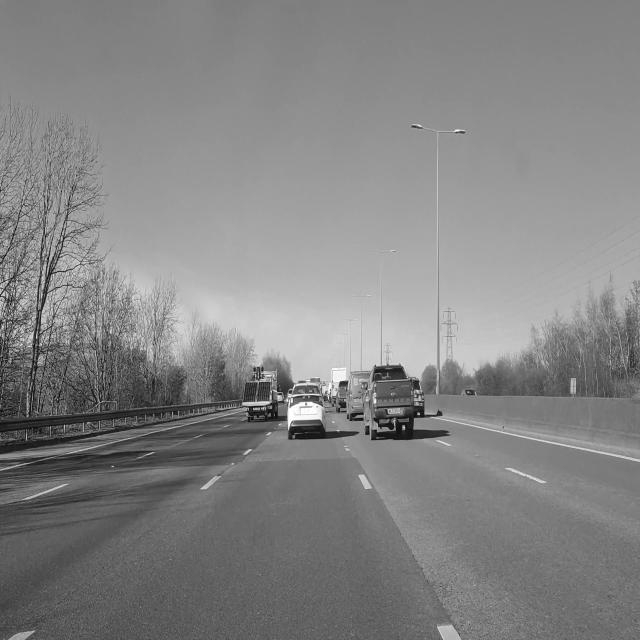car: (360, 358, 418, 446), (288, 390, 325, 439), (347, 371, 369, 420), (411, 378, 424, 417), (278, 392, 284, 402)
